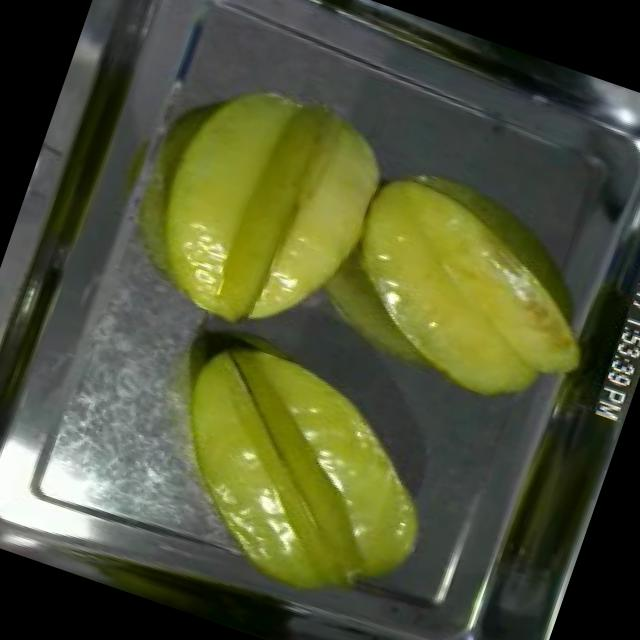fruit: (122, 313, 478, 640), (116, 49, 414, 368), (312, 150, 632, 436)
